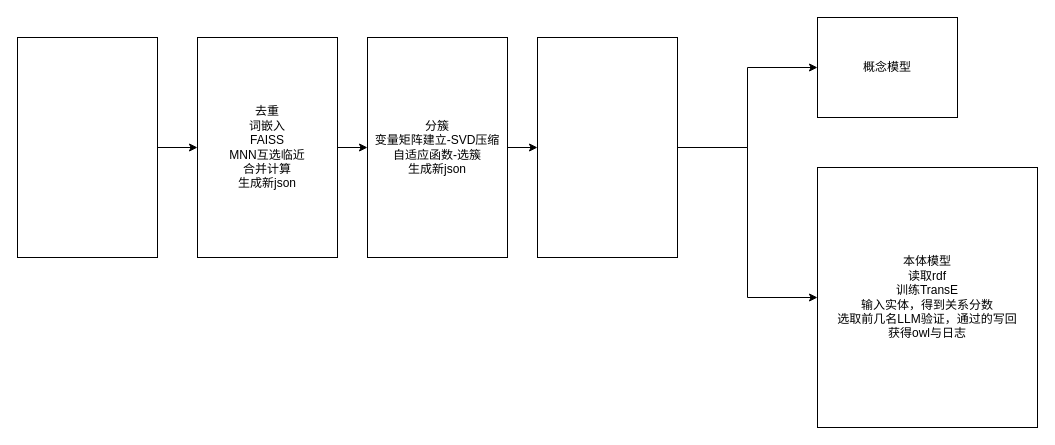
Some shapes in this 1055 by 445 pixel diagram are drawn without their labels. Here are the shapes that lost their labels. From the top down, the box of each, then its label:
(16, 36, 158, 258): 文档读入 MinerU+GraphRAG提取
(536, 36, 678, 258): 属性推理，格式化
